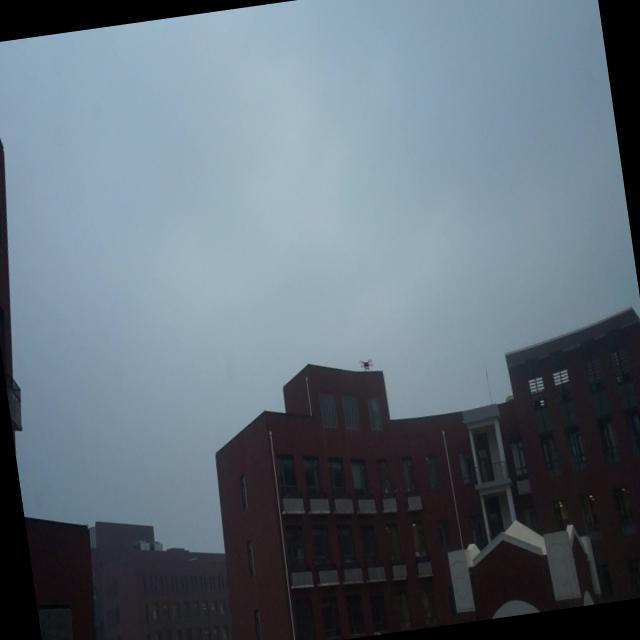drone: (358, 352, 376, 377)
